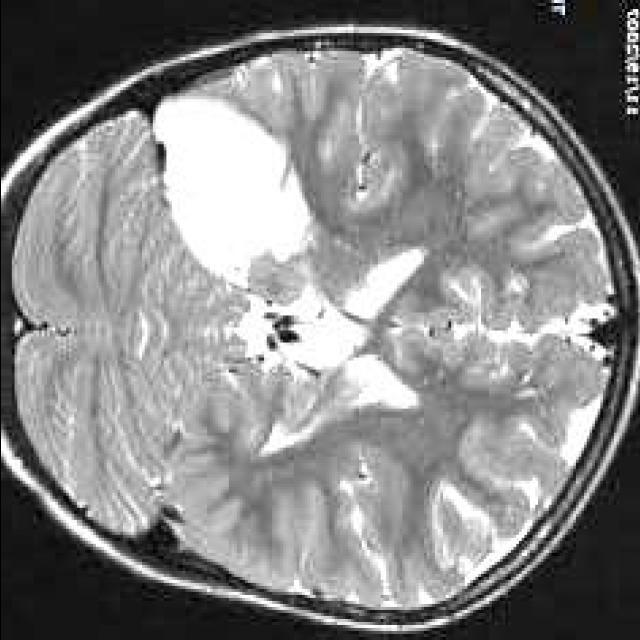tumor: (152, 90, 315, 291)
